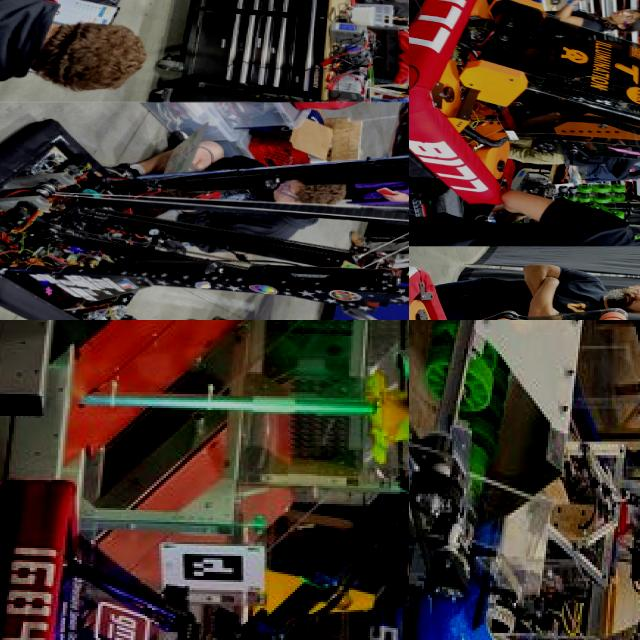FRC-Robots: (0, 350, 409, 640), (0, 100, 409, 320), (409, 320, 640, 640), (409, 0, 640, 242), (409, 252, 640, 320)
